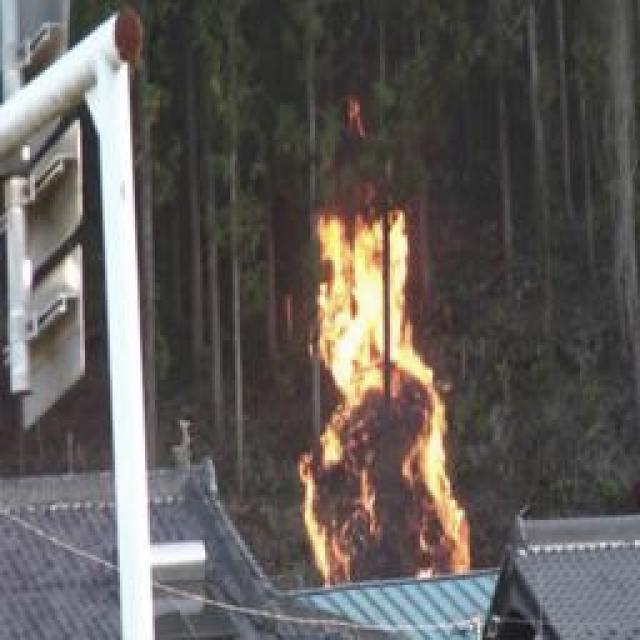Fire: (285, 202, 471, 588)
